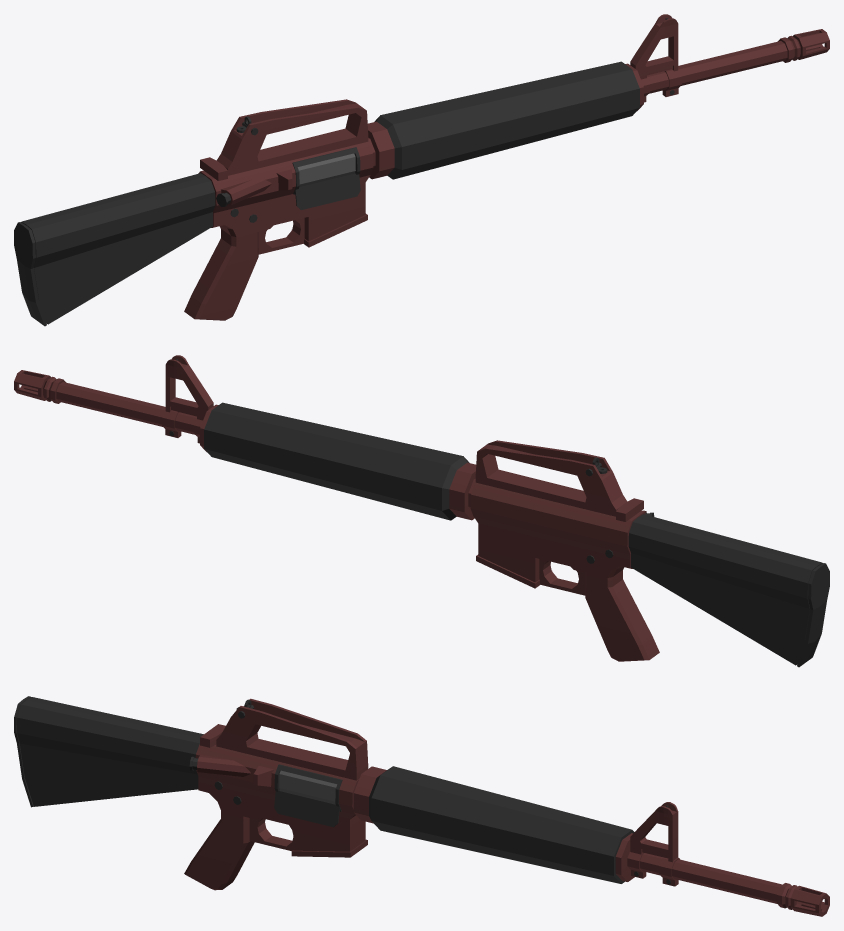
The model's file is AssaultRifle5_05.fbx.
3 views of the same model, one above another, from view 1: azimuth 30°, elevation 25°; view 2: azimuth 150°, elevation 25°; view 3: azimuth 330°, elevation 25° (orthographic).
Parts seen in each view (by area): view 1: AssaultRifle5_05; view 2: AssaultRifle5_05; view 3: AssaultRifle5_05.
Part boxes in pixels (x1=…): AssaultRifle5_05: x1=14, y1=14, x2=829, y2=326; AssaultRifle5_05: x1=14, y1=355, x2=829, y2=667; AssaultRifle5_05: x1=14, y1=696, x2=829, y2=916.
Size of the model in its own units: 1.04 by 0.2381 by 0.0756.
